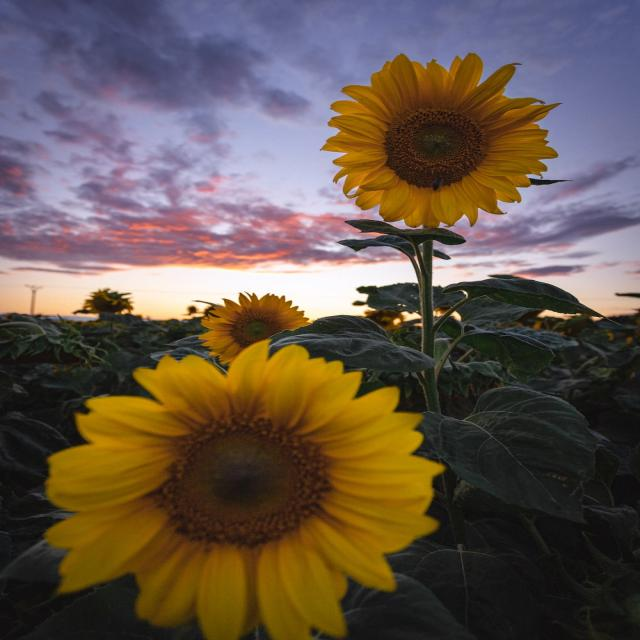sunflower: (22, 335, 483, 640), (301, 42, 579, 254), (182, 289, 330, 380)
